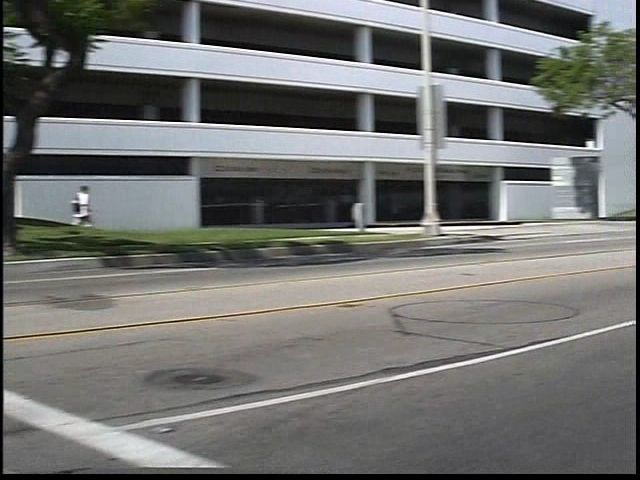person: (91, 178, 118, 247)
